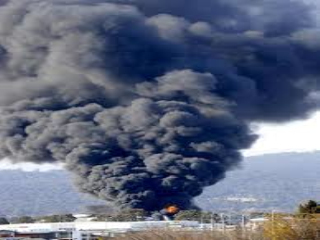smoke: (28, 24, 256, 195)
